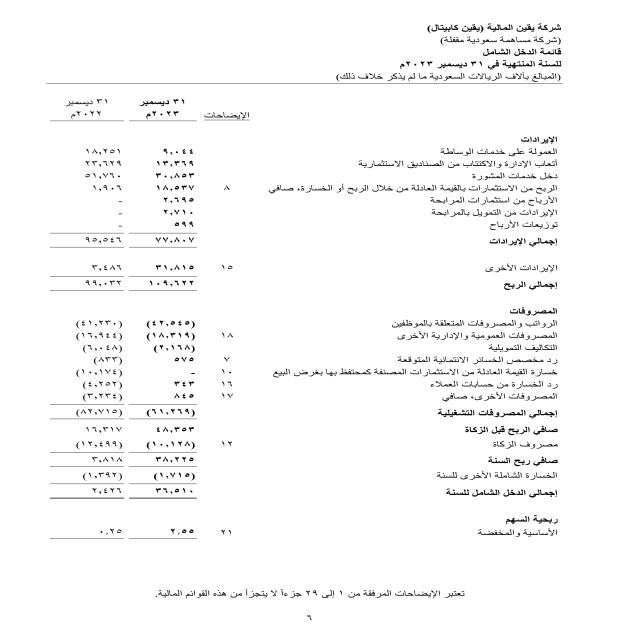financial_sheets: (477, 46, 568, 59)
table: (21, 84, 263, 562)
